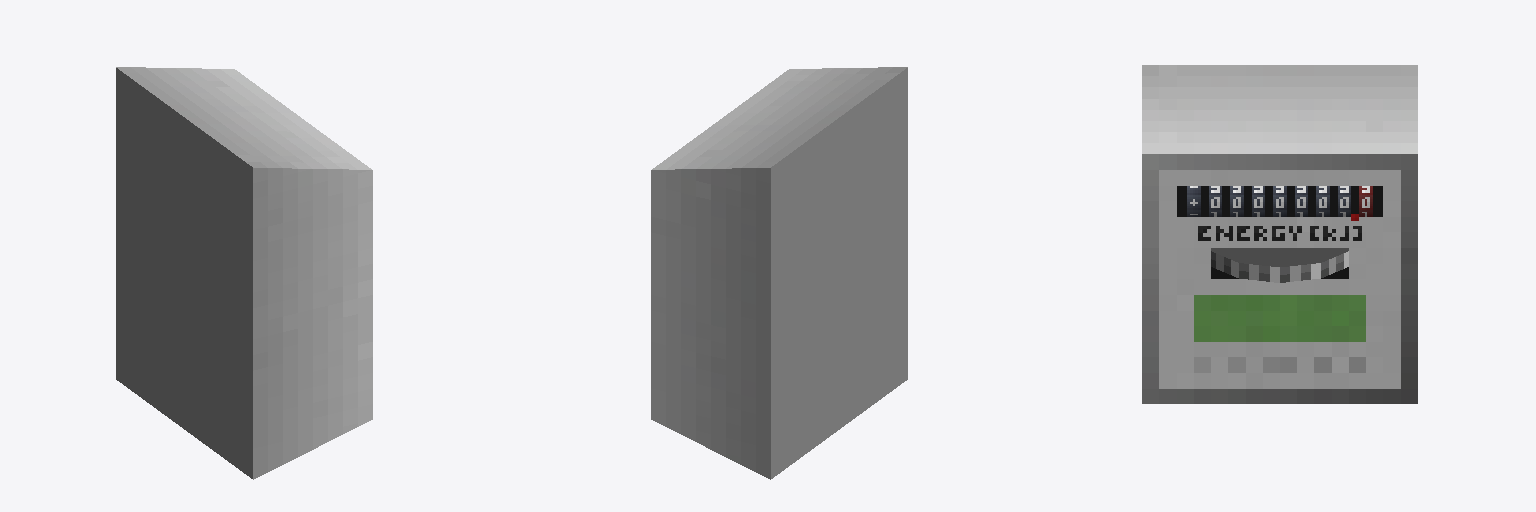
The picture shows the model from 3 angles: view 1: azimuth 30°, elevation 25°; view 2: azimuth 150°, elevation 25°; view 3: azimuth 270°, elevation 25°; orthographic projection.
Parts seen in each view (by area): view 1: Base; view 2: Base; view 3: Base, PowerDisk.
Part boxes in pixels (x1,y1,x2,y2): Base: (116, 67, 372, 479); Base: (651, 67, 907, 479); Base: (1142, 65, 1417, 403); PowerDisk: (1211, 248, 1348, 282).
Size of the model in its own units: 0.3 by 0.625 by 0.5.
Materials: 1 (1 with a texture image).